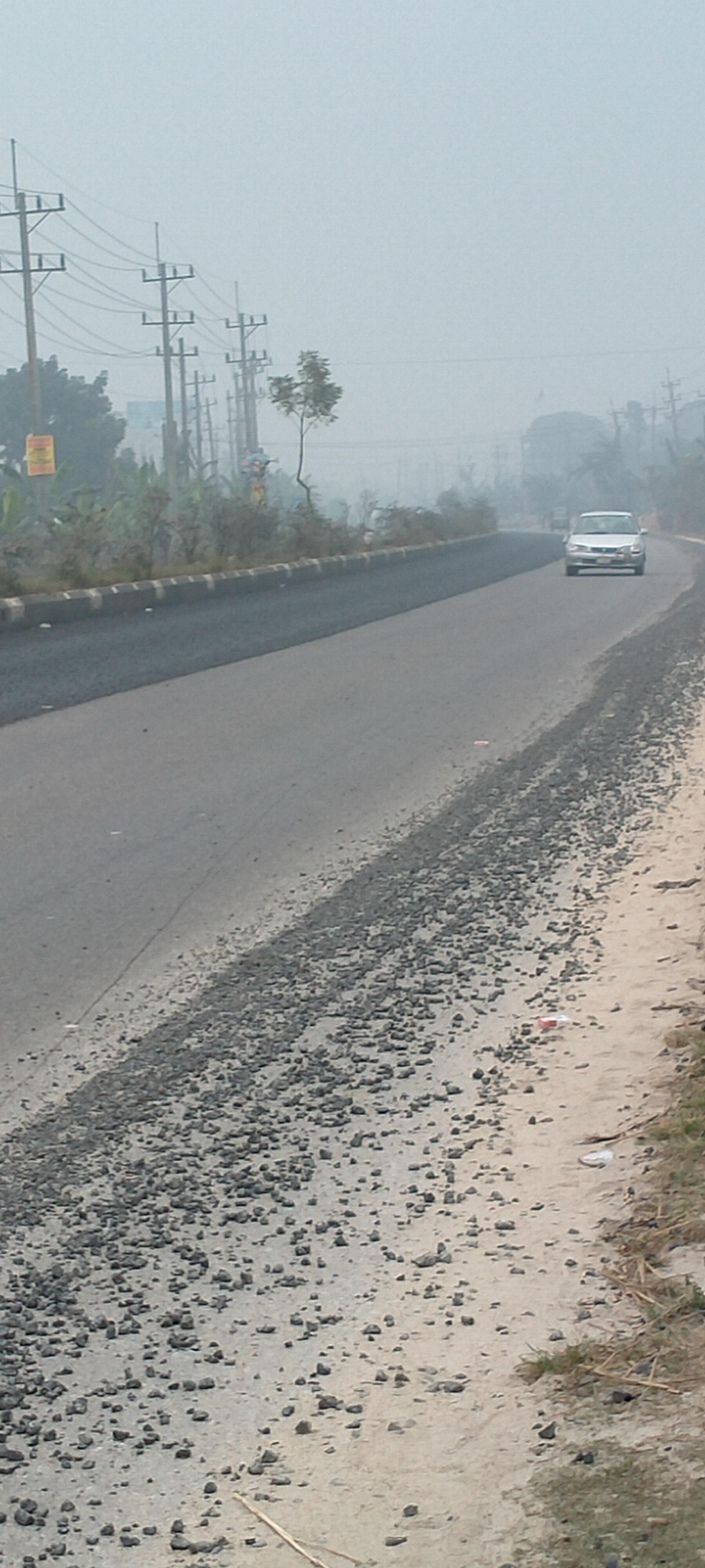Car: (548, 498, 656, 594)
